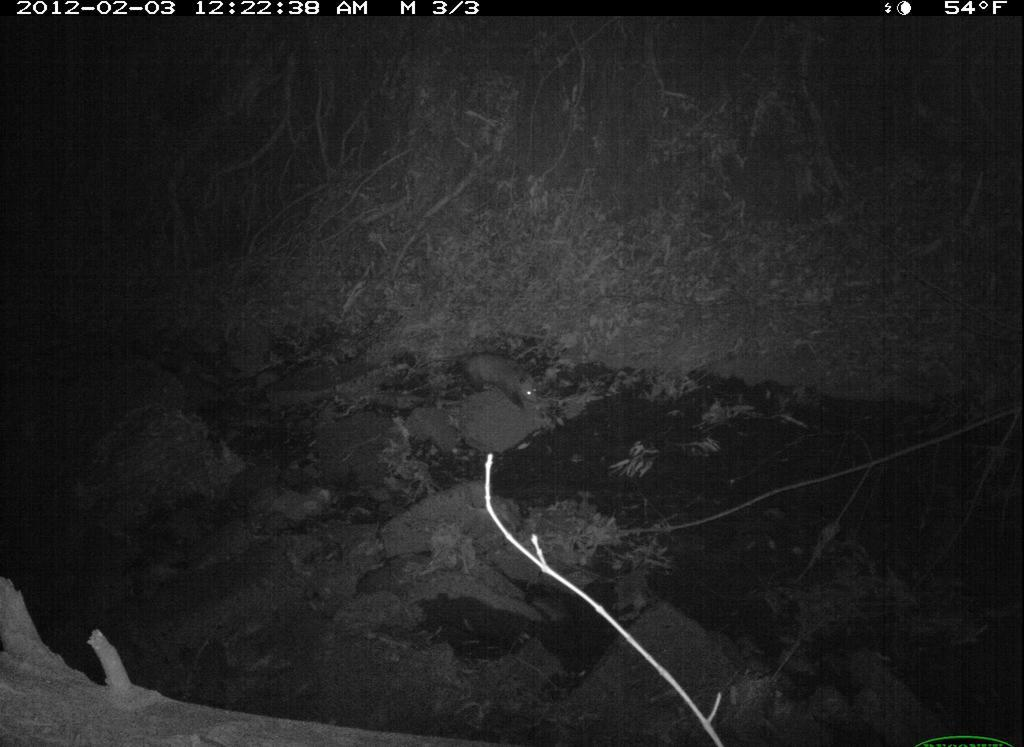opossum: (456, 347, 548, 417)
